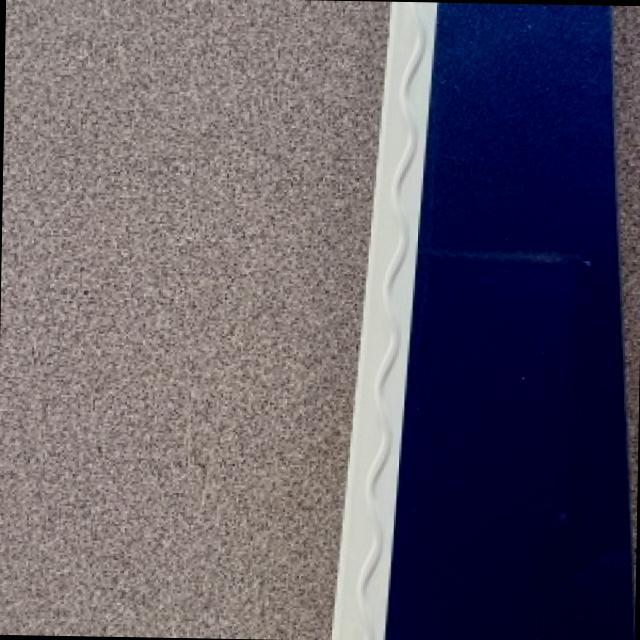healthy: (336, 1, 634, 640)
